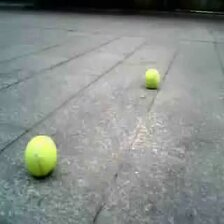tennis: (24, 135, 55, 176), (144, 68, 158, 88)
